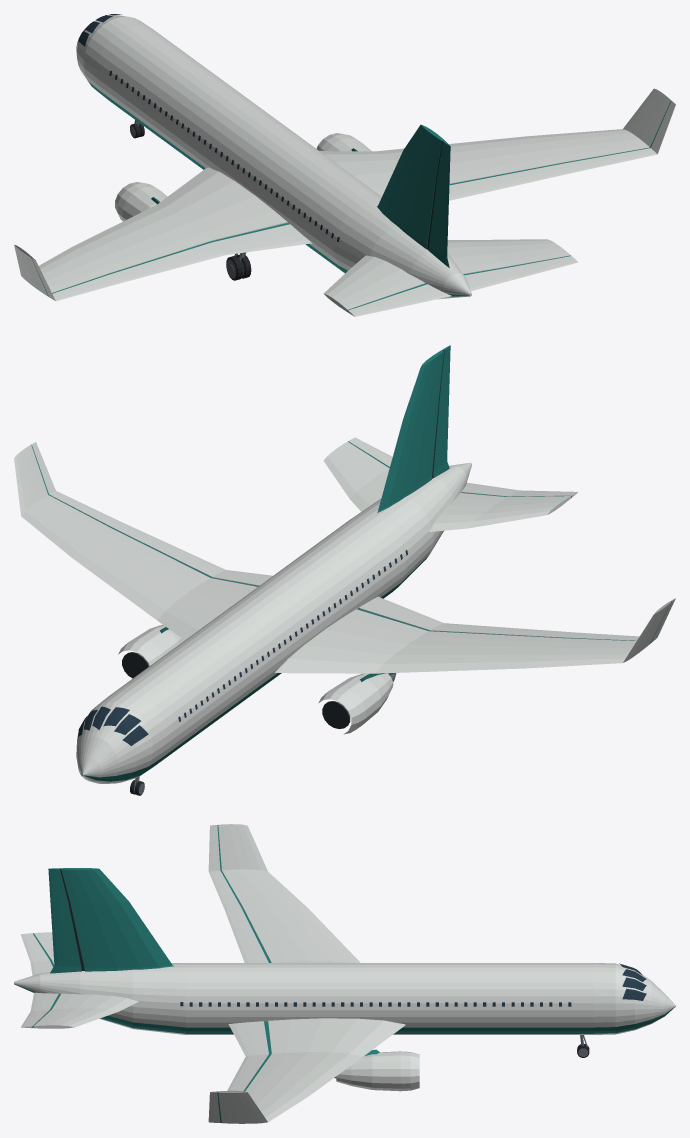
3 renders of one model, top to bottom at view 1: azimuth 30°, elevation 25°; view 2: azimuth 150°, elevation 25°; view 3: azimuth 270°, elevation 25°, orthographic. The views are drawn at different scales.
Parts seen in each view (by area): view 1: airframe, wing, wing_control, tailplane, fin, tailplane_control, fin_control, glazing, wing_hinge, gear; view 2: airframe, wing, tailplane, wing_control, fin, glazing, fin_control, tailplane_control, wing_hinge; view 3: airframe, wing, fin, wing_control, tailplane, fin_control, glazing, tailplane_control, wing_hinge.
Part boxes in pixels (left/top/right/bottom): airframe: left=76, top=15, right=471, bottom=299; wing: left=14, top=88, right=670, bottom=296; wing_control: left=31, top=100, right=675, bottom=301; tailplane: left=323, top=239, right=570, bottom=311; fin: left=377, top=124, right=444, bottom=249; tailplane_control: left=348, top=256, right=578, bottom=316; fin_control: left=428, top=141, right=450, bottom=267; glazing: left=78, top=14, right=339, bottom=241; wing_hinge: left=31, top=100, right=671, bottom=296; gear: left=130, top=120, right=251, bottom=280; airframe: left=76, top=462, right=471, bottom=783; wing: left=14, top=445, right=670, bottom=673; tailplane: left=323, top=441, right=570, bottom=531; wing_control: left=32, top=442, right=675, bottom=642; fin: left=377, top=350, right=443, bottom=512; glazing: left=78, top=550, right=407, bottom=745; fin_control: left=433, top=345, right=450, bottom=478; tailplane_control: left=348, top=437, right=577, bottom=497; wing_hinge: left=31, top=444, right=671, bottom=643; airframe: left=14, top=963, right=675, bottom=1091; wing: left=218, top=824, right=405, bottom=1123; fin: left=61, top=868, right=174, bottom=971; wing_control: left=208, top=825, right=268, bottom=1122; tailplane: left=33, top=932, right=138, bottom=1028; fin_control: left=48, top=868, right=81, bottom=973; glazing: left=180, top=963, right=646, bottom=1006; tailplane_control: left=20, top=933, right=58, bottom=1028; wing_hinge: left=217, top=825, right=271, bottom=1122.
Bounding box in the file's own units: 35.8 × 11.76 × 37.57.
